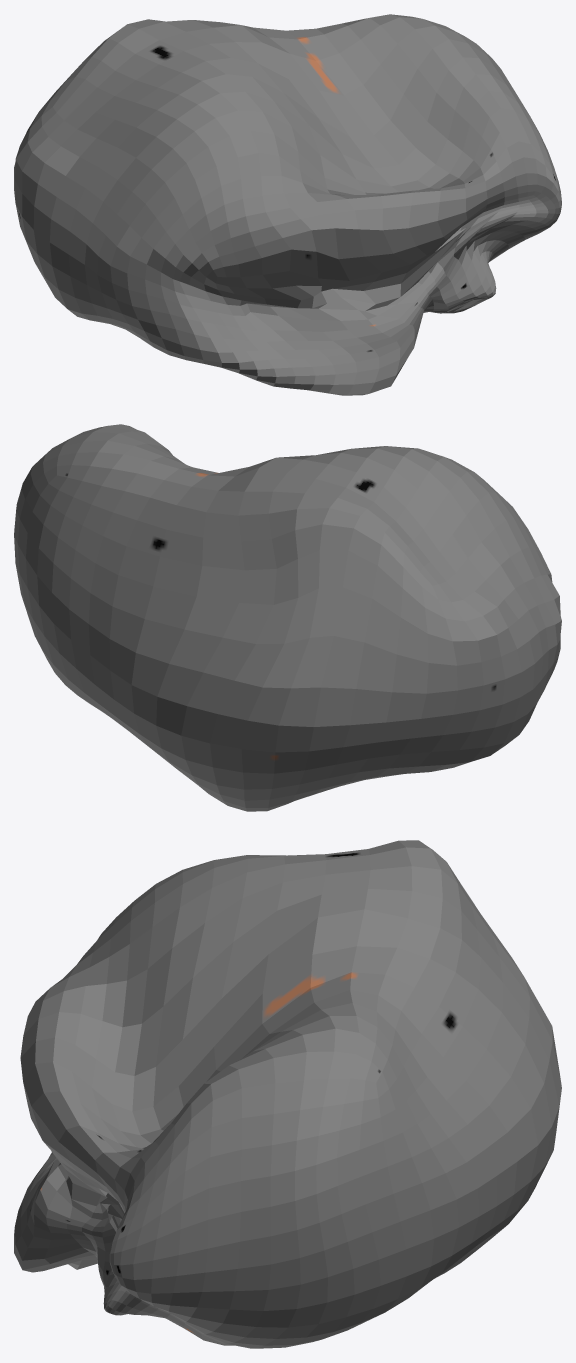
Rendered from камень2.obj.
The picture shows the model from 3 angles, top to bottom: view 1: azimuth 30°, elevation 25°; view 2: azimuth 150°, elevation 25°; view 3: azimuth 270°, elevation 25°; orthographic projection. The views are drawn at different scales.
Parts seen in each view (by area): view 1: Cube_Cube.001; view 2: Cube_Cube.001; view 3: Cube_Cube.001.
Boxes of the visible parts, bbox=[...] form: Cube_Cube.001: bbox=[14, 14, 561, 395]; Cube_Cube.001: bbox=[14, 424, 561, 811]; Cube_Cube.001: bbox=[14, 840, 561, 1348].
Size of the model in its own units: 2.26 by 1.33 by 1.78.
